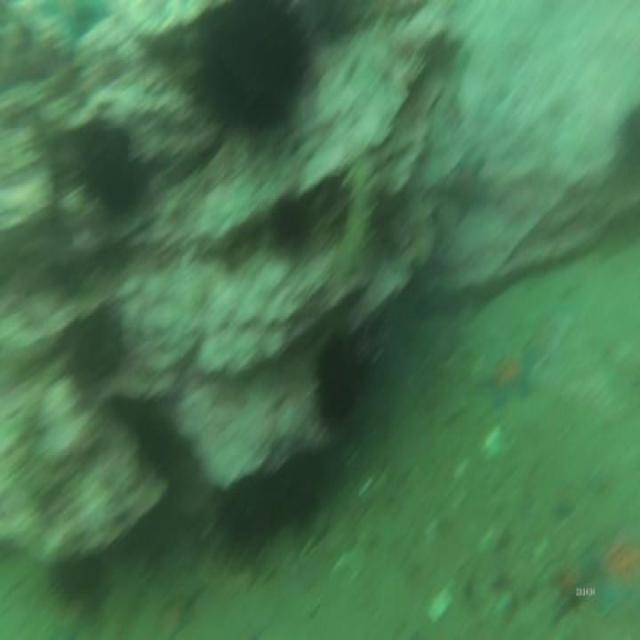echinus: (191, 0, 313, 145), (75, 115, 145, 228), (311, 324, 366, 431), (271, 444, 324, 537), (220, 468, 268, 569), (46, 548, 108, 615), (271, 187, 312, 259)
holothurian: (336, 150, 381, 289)
starfish: (584, 515, 640, 626), (476, 332, 540, 417), (160, 583, 200, 639)
